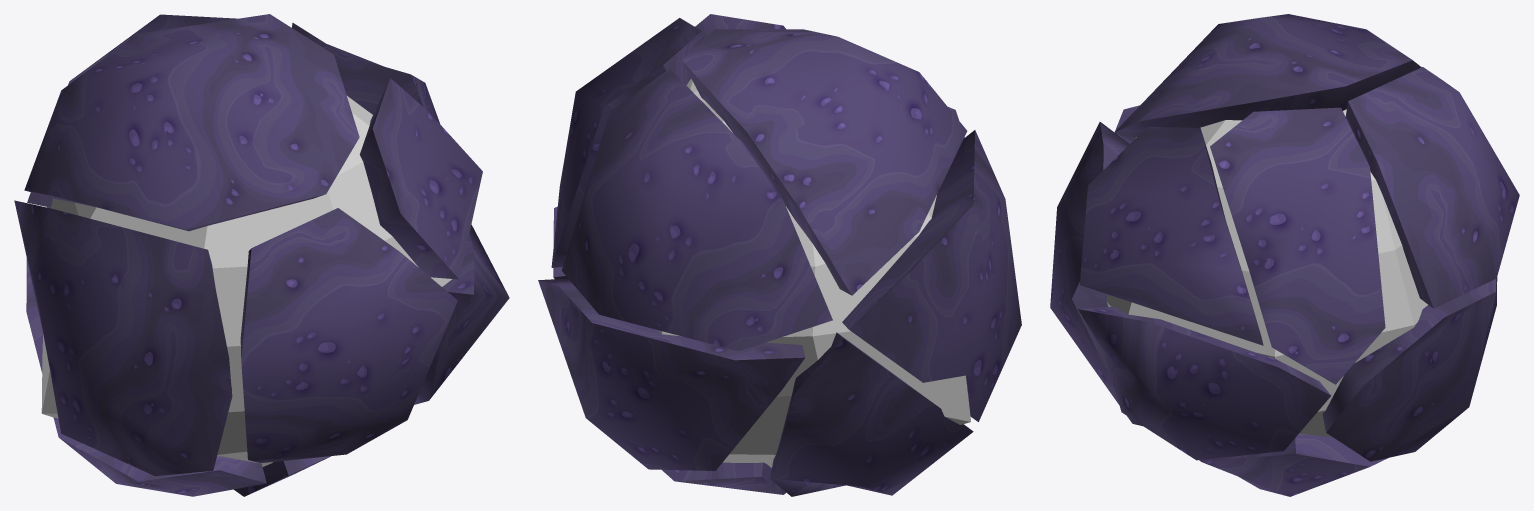
The model's file is Meteor.fbx.
3 renders of one model, left to right at view 1: azimuth 30°, elevation 25°; view 2: azimuth 150°, elevation 25°; view 3: azimuth 270°, elevation 25°, orthographic. The views are drawn at different scales.
Visible parts, largest first — view 1: Meteor; view 2: Meteor; view 3: Meteor.
Boxes of the visible parts, x1=… form: Meteor: x1=14, y1=14, x2=509, y2=496; Meteor: x1=538, y1=14, x2=1021, y2=496; Meteor: x1=1050, y1=14, x2=1519, y2=496.
Bounding box in the file's own units: 195 × 192 × 191.
